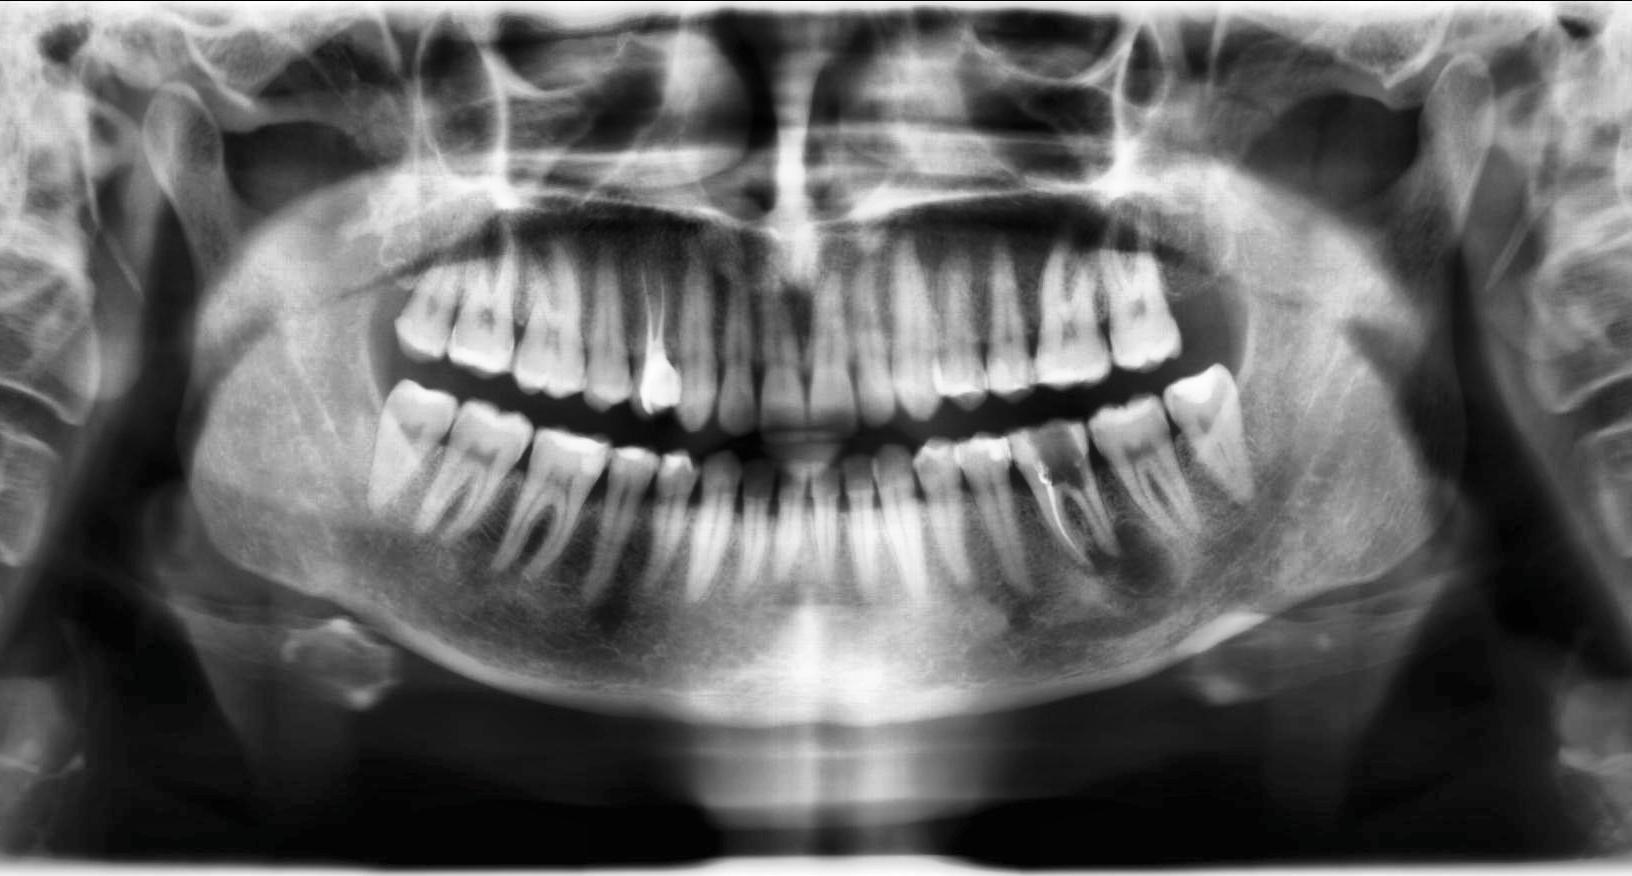radicular: (1082, 515, 1182, 604)
